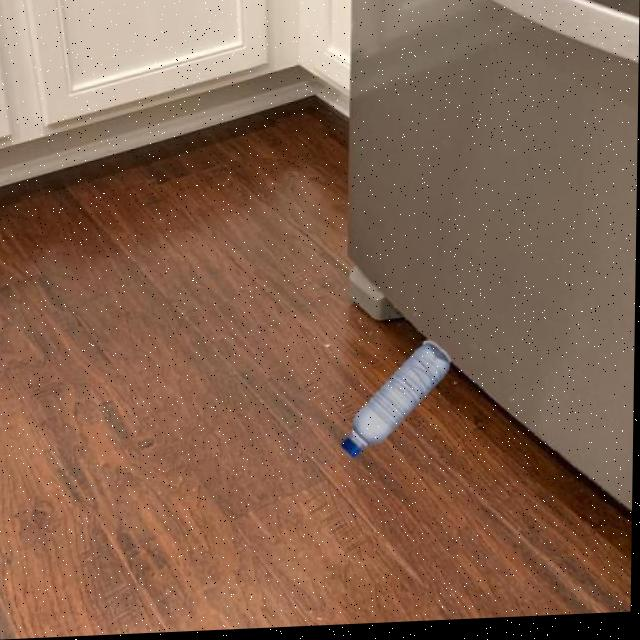bottle: (340, 342, 452, 461)
